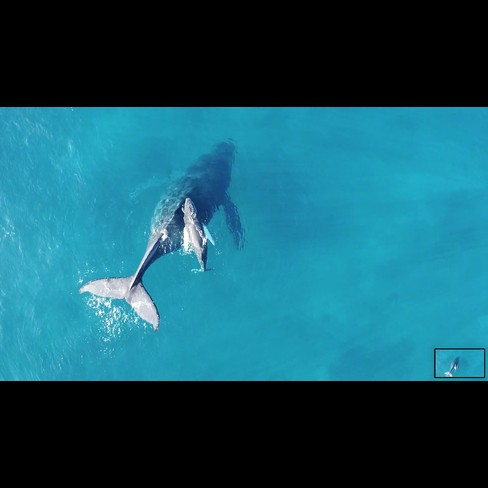hump: (74, 132, 255, 343), (176, 194, 221, 279)
